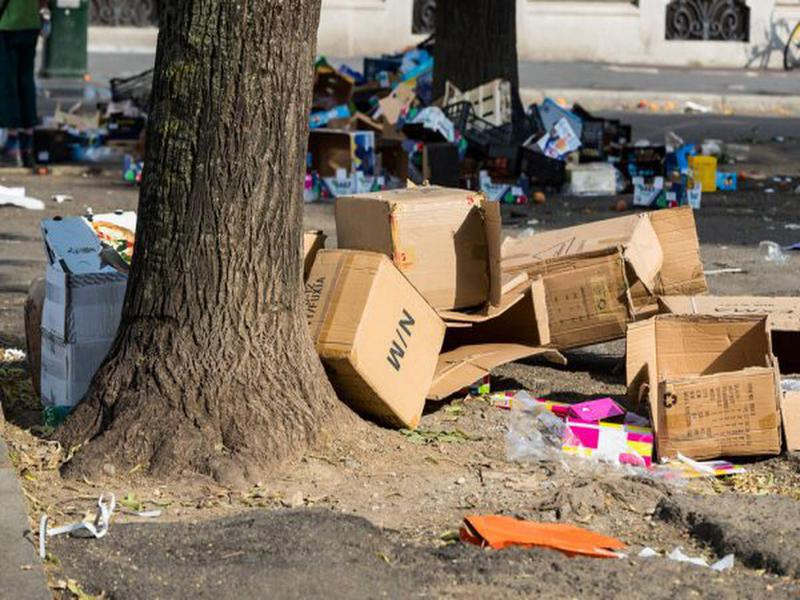cardboard: (295, 246, 448, 432), (616, 309, 793, 469), (508, 205, 704, 347), (22, 206, 137, 417), (333, 186, 505, 317), (535, 395, 656, 468)
